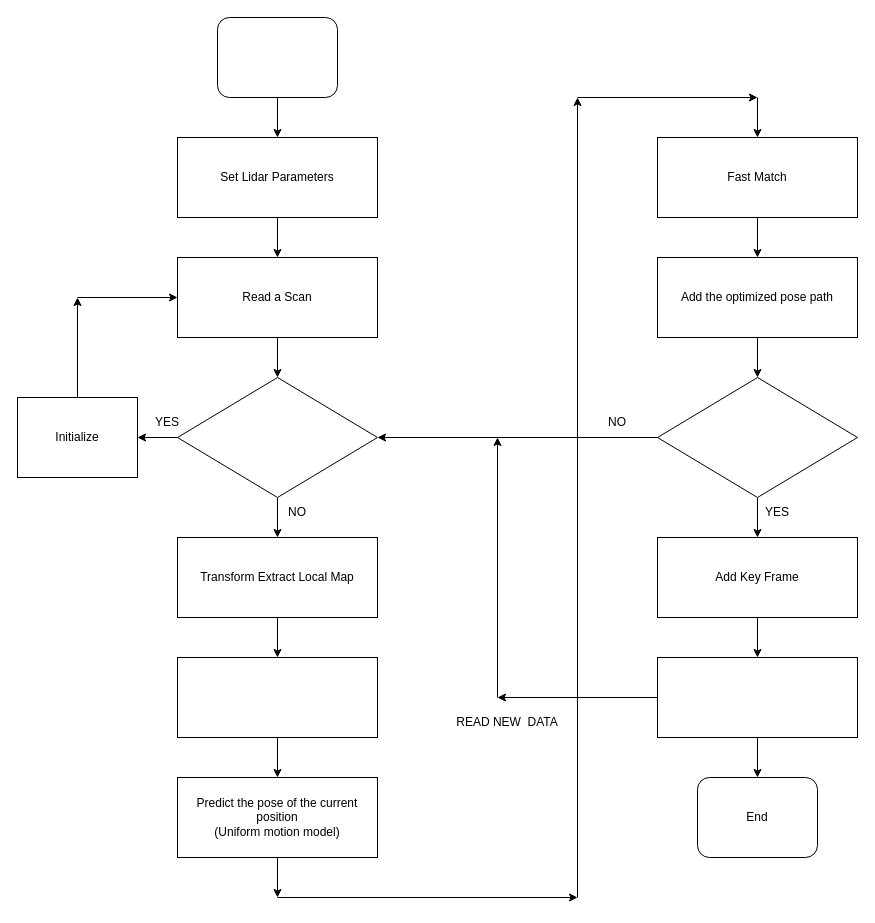
This 875x923 diagram has some shape labels left out. The shapes that lost their labels are listed below. From the top down, each one's centre as x and y in pixels, then its label:
At pixel 277 57: "Start".
At pixel 277 437: "Is it the first frame of the data?".
At pixel 757 437: "If difference is greater than threshold? Add a Key Scan".
At pixel 277 697: "Occupy grid".
At pixel 757 697: "Plot Map".
